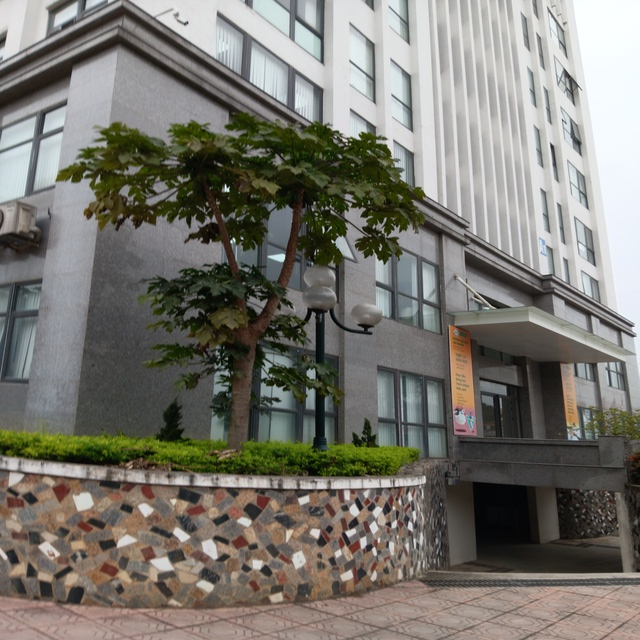cotden: (260, 258, 383, 443)
